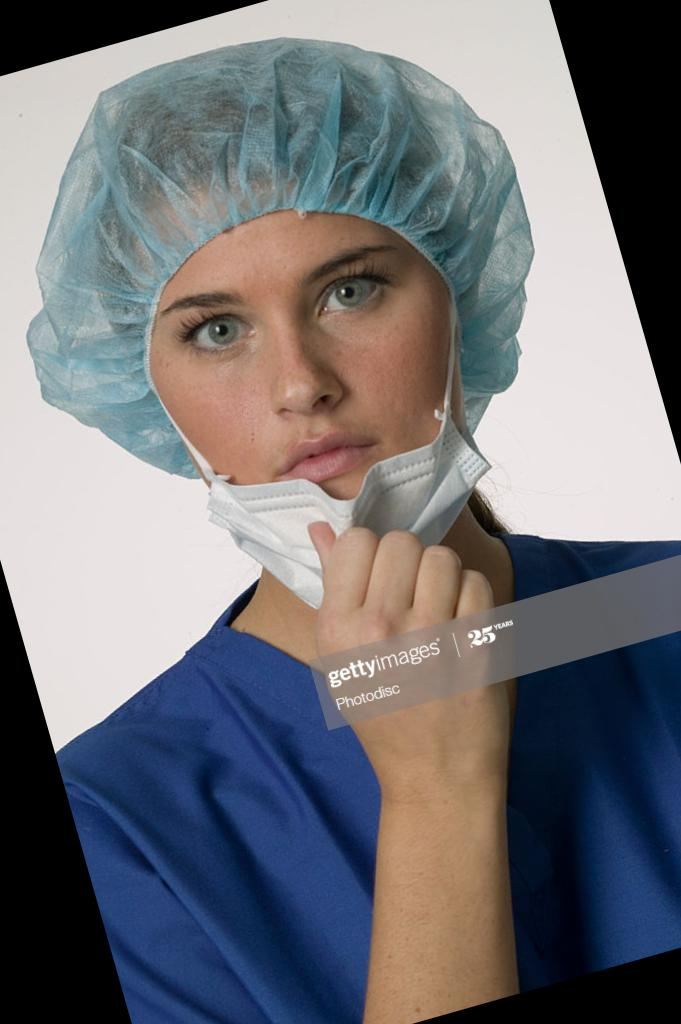mask_weared_incorrect: (159, 230, 496, 585)
